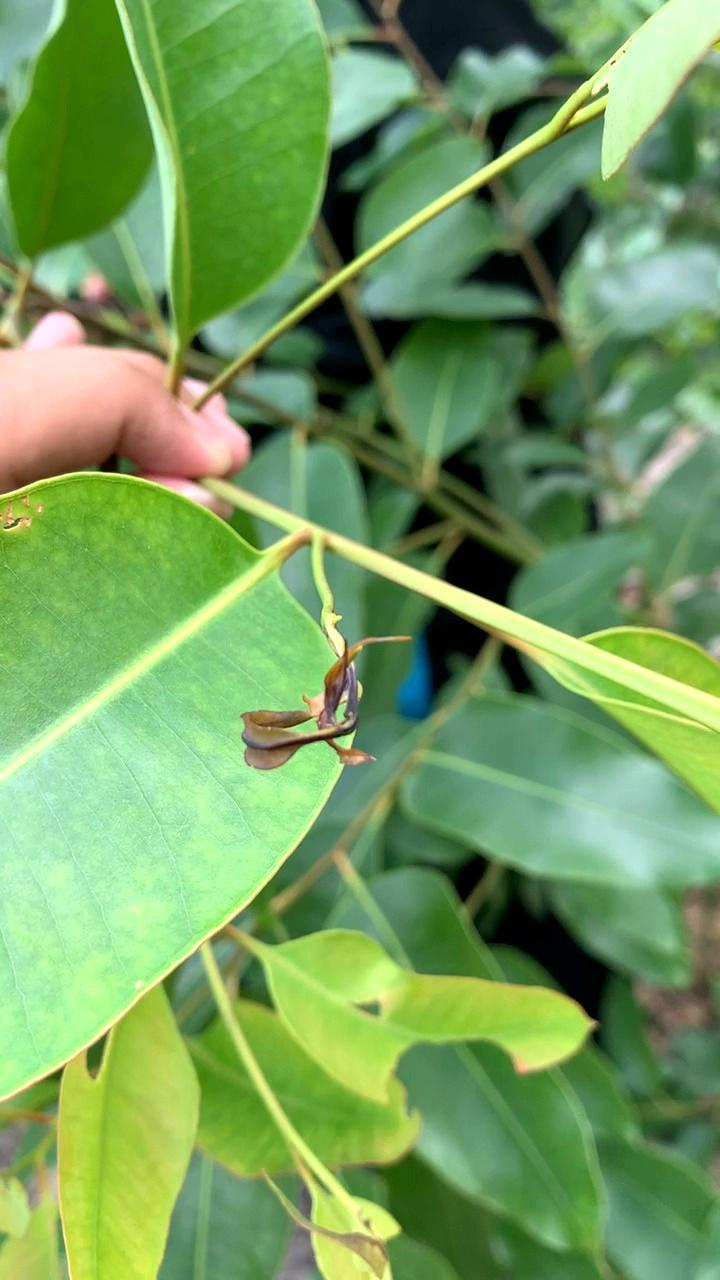Helopeltis-Withered Sprout: (221, 610, 421, 793)
